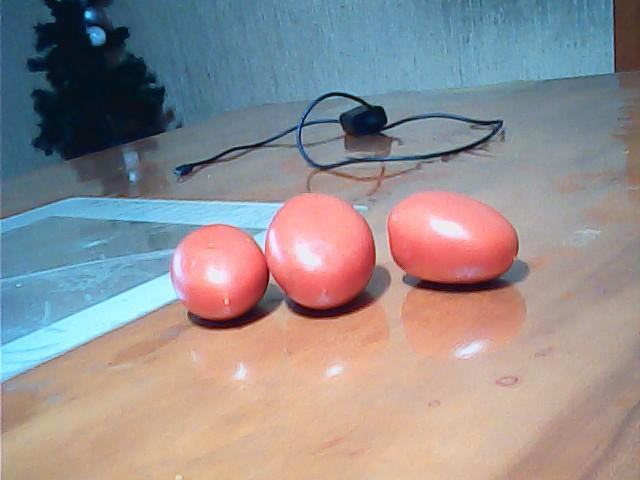maduro: (264, 191, 376, 310), (388, 189, 519, 285), (169, 223, 271, 317)
